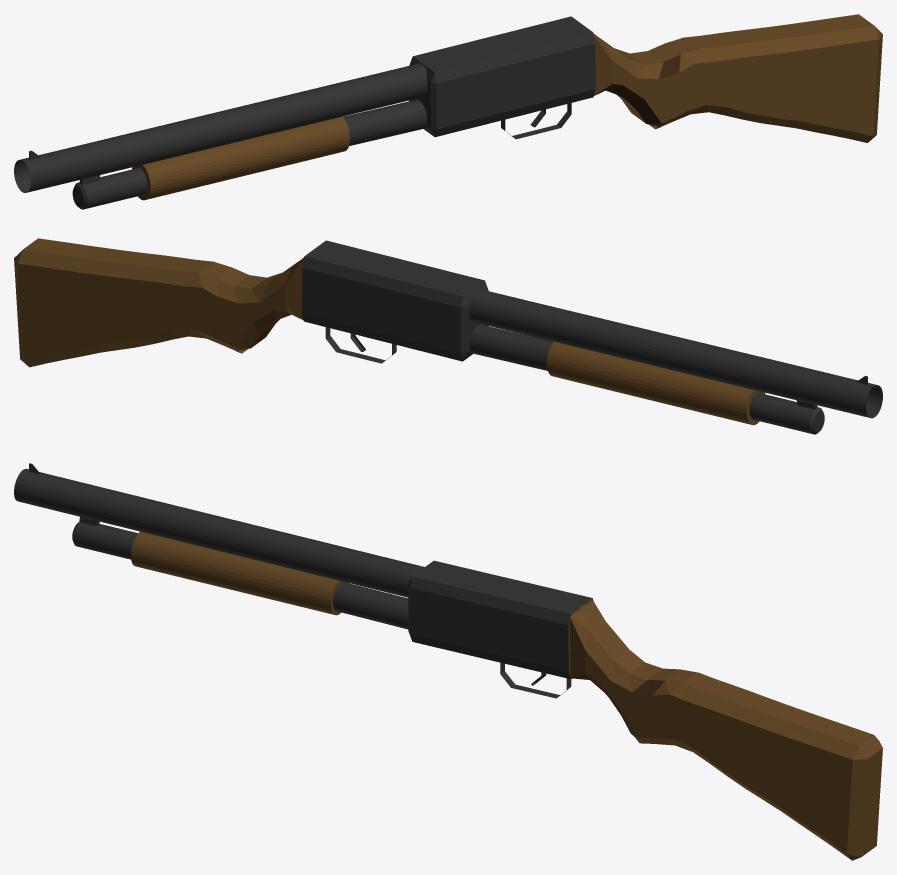
File: escopeta.fbx
3 renders of one model, top to bottom at view 1: azimuth 30°, elevation 25°; view 2: azimuth 150°, elevation 25°; view 3: azimuth 330°, elevation 25°, orthographic.
Visible parts, largest first — view 1: Plano, Plano.001; view 2: Plano, Plano.001; view 3: Plano.001, Plano.
Boxes of the visible parts, x1,y1,x2,y2 form: Plano: (14,16,680,209); Plano.001: (132,14,882,200); Plano: (301,240,882,434); Plano.001: (14,238,765,425); Plano.001: (131,531,882,860); Plano: (14,463,664,736).
Size of the model in its own units: 1199 by 253 by 63.97.
